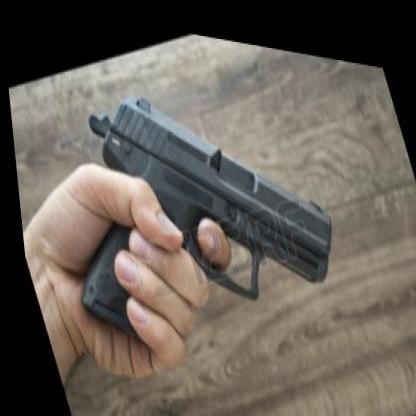pistol: (16, 2, 355, 385)
